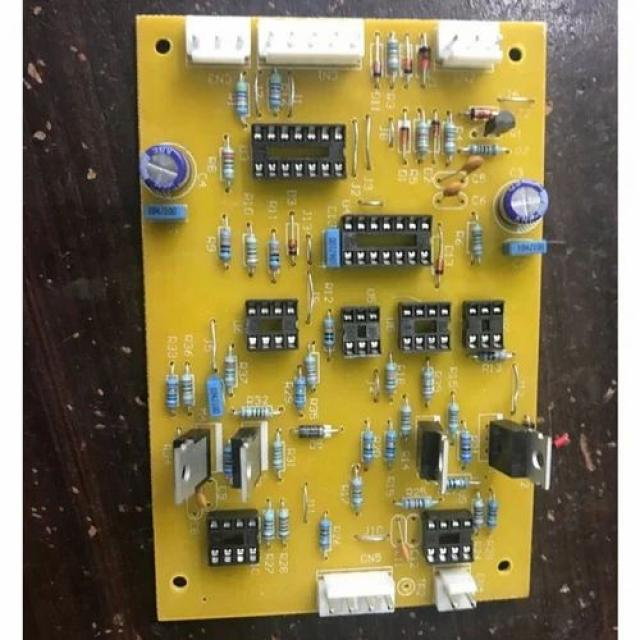pcb: (134, 13, 552, 622), (322, 212, 434, 269), (255, 15, 365, 70), (249, 121, 347, 180), (486, 418, 552, 490), (315, 564, 395, 617), (183, 14, 252, 65), (433, 20, 503, 70), (243, 297, 298, 351), (396, 300, 451, 352), (460, 298, 506, 357), (339, 304, 382, 358)
